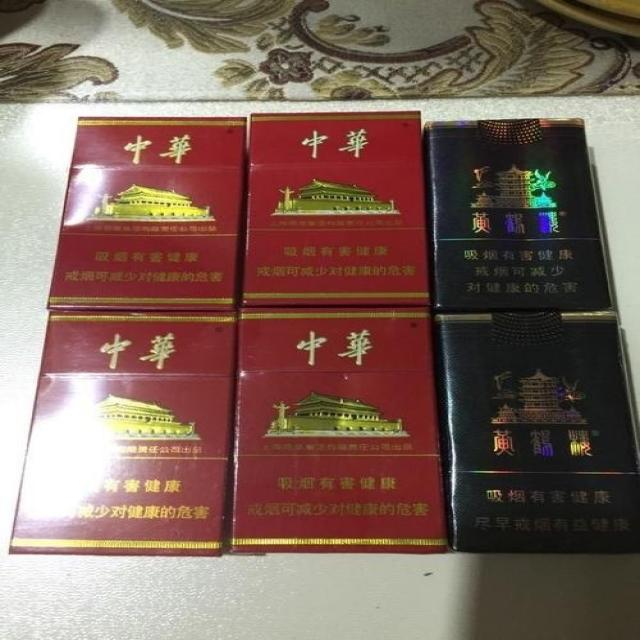box: (9, 311, 237, 556), (229, 308, 454, 555), (436, 313, 640, 553), (47, 117, 247, 310), (425, 118, 618, 313), (241, 111, 434, 306)
